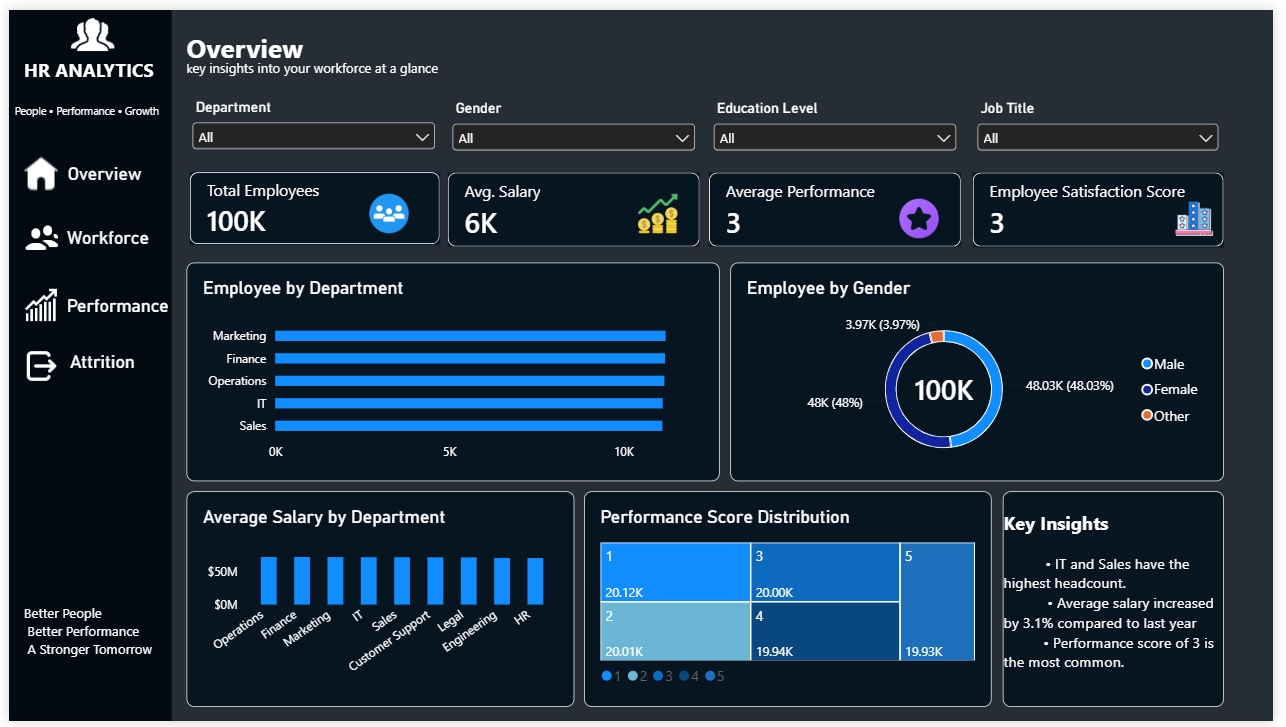

The dashboard page shown, as its layout file describes it:
{"tool":"powerbi","page":{"name":"Overview","canvas":[1280,720],"ordinal":0},"visuals":[{"type":"shape","box":[0,0,165,720],"z":0},{"type":"textbox","box":[15.1,48,134.5,42.5],"z":1000},{"type":"textbox","box":[0,90.6,164.7,32.9],"z":2000},{"type":"actionButton","title":"Overview","box":[42.6,155.5,107.7,35.9],"z":3000},{"type":"actionButton","title":"Workforce","box":[47.4,220.1,106.7,31.1],"z":4000},{"type":"actionButton","title":"Performance","box":[54.1,289,111.5,26.8],"z":5000},{"type":"actionButton","title":"Attrition","box":[54.3,345.7,80.2,39.5],"z":6000},{"type":"textbox","box":[180,20,349.9,38.4],"z":7000},{"type":"textbox","box":[180,48,269,42.5],"z":8000},{"type":"slicer","fields":{"Values":["Extended_Employee_Performance_and_Productivity_Data.Department"]},"box":[181,89.8,255.2,64.5],"z":9000},{"type":"slicer","fields":{"Values":["Extended_Employee_Performance_and_Productivity_Data.Gender"]},"box":[444.6,90.6,255.2,64.5],"z":10000},{"type":"slicer","fields":{"Values":["Extended_Employee_Performance_and_Productivity_Data.Education_Level"]},"box":[709.4,90.6,255.2,64.5],"z":11000},{"type":"slicer","fields":{"Values":["Extended_Employee_Performance_and_Productivity_Data.Job_Title"]},"box":[975.6,90.6,253.9,64.5],"z":12000},{"type":"cardVisual","fields":{"Data":["CountNonNull(Extended_Employee_Performance_and_Productivity_Data.Employee_ID)"]},"box":[182.4,163.9,255.2,75.5],"z":13000},{"type":"cardVisual","fields":{"Data":["Avg(Extended_Employee_Performance_and_Productivity_Data.Monthly_Salary)"]},"box":[444.6,164.7,255.2,75.5],"z":14000},{"type":"cardVisual","fields":{"Data":["Extended_Employee_Performance_and_Productivity_Data.Average Performance"]},"box":[709.4,164.7,255.2,75.5],"z":15000},{"type":"cardVisual","fields":{"Data":["Avg(Extended_Employee_Performance_and_Productivity_Data.Employee_Satisfaction_Score)"]},"box":[975.7,164.3,254.3,75.7],"z":16000},{"type":"barChart","title":"Employee by Department","fields":{"Category":["Extended_Employee_Performance_and_Productivity_Data.Department"],"Y":["CountNonNull(Extended_Employee_Performance_and_Productivity_Data.Employee_ID)"]},"box":[180,255.7,540,221.4],"z":17000},{"type":"donutChart","title":"Employee by Gender","fields":{"Category":["Extended_Employee_Performance_and_Productivity_Data.Gender"],"Y":["CountNonNull(Extended_Employee_Performance_and_Productivity_Data.Employee_ID)"]},"box":[730,255.7,500,221.4],"z":18000},{"type":"clusteredColumnChart","title":"Average Salary by Department","fields":{"Category":["Extended_Employee_Performance_and_Productivity_Data.Department"],"Y":["Sum(Extended_Employee_Performance_and_Productivity_Data.Monthly_Salary)"]},"box":[180,487.1,392.9,218.6],"z":19000},{"type":"treemap","title":"Performance Score Distribution","fields":{"Group":["Extended_Employee_Performance_and_Productivity_Data.Performance_Score"],"Values":["CountNonNull(Extended_Employee_Performance_and_Productivity_Data.Employee_ID)"]},"box":[582.9,487.1,412.9,218.6],"z":20000},{"type":"textbox","box":[15.1,599.7,144.1,120.8],"z":21000},{"type":"textbox","title":"    Key Insights","box":[1005.7,487.1,224.3,218.6],"z":22000},{"type":"image","box":[354.3,185.7,60,40],"z":23000},{"type":"image","box":[627.1,185.7,60,40],"z":24000},{"type":"image","box":[891.4,191.4,60,40],"z":25000},{"type":"image","box":[1170,191.4,60,40],"z":26000},{"type":"image","box":[10,145.9,44.5,39.7],"z":27000},{"type":"image","box":[15.3,211,35.7,40],"z":28000},{"type":"image","box":[10,282.8,44.5,33],"z":29000},{"type":"image","box":[2.5,340.7,60,40],"z":30000},{"type":"image","box":[59.2,4.2,50.7,43.7],"z":31000}]}

Visuals, with their boxes in screenshot pixels (x1, y1, x2, y2), scaled from the page's 1280x720 canvas onto the 1286x727 screenshot:
shape: BBox(0, 0, 166, 726)
textbox: BBox(15, 48, 150, 91)
textbox: BBox(0, 91, 165, 125)
"Overview" actionButton: BBox(43, 157, 151, 193)
"Workforce" actionButton: BBox(48, 222, 155, 254)
"Performance" actionButton: BBox(54, 292, 166, 319)
"Attrition" actionButton: BBox(55, 349, 135, 389)
textbox: BBox(181, 20, 532, 59)
textbox: BBox(181, 48, 451, 91)
slicer - Extended_Employee_Performance_and_Productivity_Data.Department: BBox(182, 91, 438, 156)
slicer - Extended_Employee_Performance_and_Productivity_Data.Gender: BBox(447, 91, 703, 157)
slicer - Extended_Employee_Performance_and_Productivity_Data.Education_Level: BBox(713, 91, 969, 157)
slicer - Extended_Employee_Performance_and_Productivity_Data.Job_Title: BBox(980, 91, 1235, 157)
cardVisual - CountNonNull(Extended_Employee_Performance_and_Productivity_Data.Employee_ID): BBox(183, 165, 440, 242)
cardVisual - Avg(Extended_Employee_Performance_and_Productivity_Data.Monthly_Salary): BBox(447, 166, 703, 243)
cardVisual - Extended_Employee_Performance_and_Productivity_Data.Average Performance: BBox(713, 166, 969, 243)
cardVisual - Avg(Extended_Employee_Performance_and_Productivity_Data.Employee_Satisfaction_Score): BBox(980, 166, 1236, 242)
"Employee by Department" barChart: BBox(181, 258, 723, 482)
"Employee by Gender" donutChart: BBox(733, 258, 1236, 482)
"Average Salary by Department" clusteredColumnChart: BBox(181, 492, 576, 713)
"Performance Score Distribution" treemap: BBox(586, 492, 1000, 713)
textbox: BBox(15, 606, 160, 726)
"    Key Insights" textbox: BBox(1010, 492, 1236, 713)
image: BBox(356, 188, 416, 228)
image: BBox(630, 188, 690, 228)
image: BBox(896, 193, 956, 234)
image: BBox(1175, 193, 1236, 234)
image: BBox(10, 147, 55, 187)
image: BBox(15, 213, 51, 253)
image: BBox(10, 286, 55, 319)
image: BBox(3, 344, 63, 384)
image: BBox(59, 4, 110, 48)
